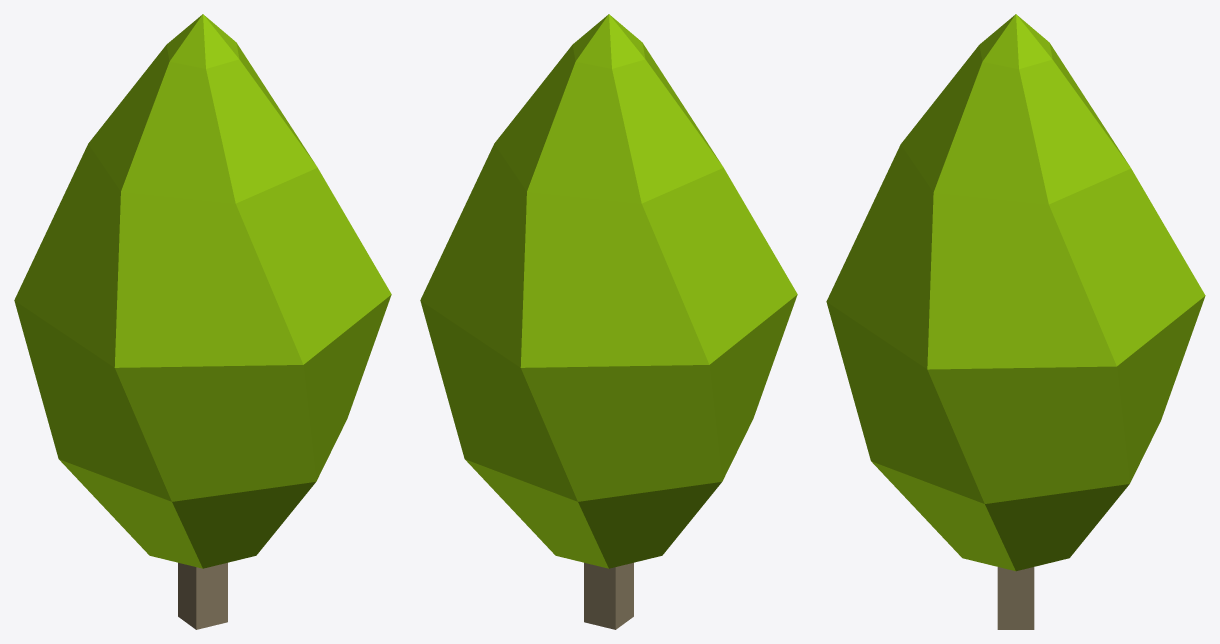
The model's file is tree_spheric_5.fbx.
3 views of the same model, side by side, from view 1: azimuth 30°, elevation 25°; view 2: azimuth 150°, elevation 25°; view 3: azimuth 270°, elevation 25° (orthographic).
Visible parts, largest first — view 1: tree_spheric_5; view 2: tree_spheric_5; view 3: tree_spheric_5.
Boxes of the visible parts, bbox=[...] form: tree_spheric_5: bbox=[14, 14, 391, 629]; tree_spheric_5: bbox=[420, 14, 797, 629]; tree_spheric_5: bbox=[826, 14, 1205, 629].
Size of the model in its own units: 112 by 225 by 127.
